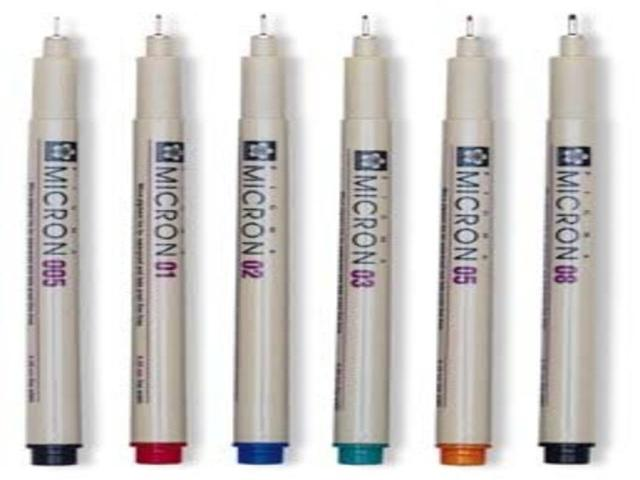PEN: (21, 12, 94, 480), (120, 11, 194, 467), (435, 14, 506, 471), (535, 11, 604, 467), (226, 11, 294, 470), (333, 10, 389, 470)
